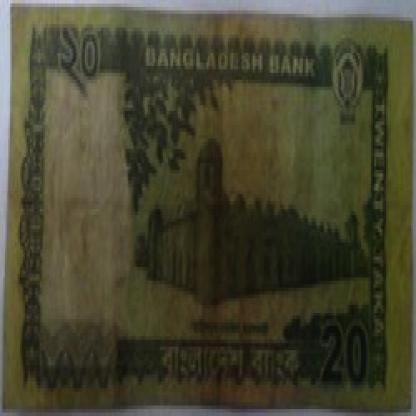Twenty: (57, 21, 112, 104), (318, 319, 374, 392)
